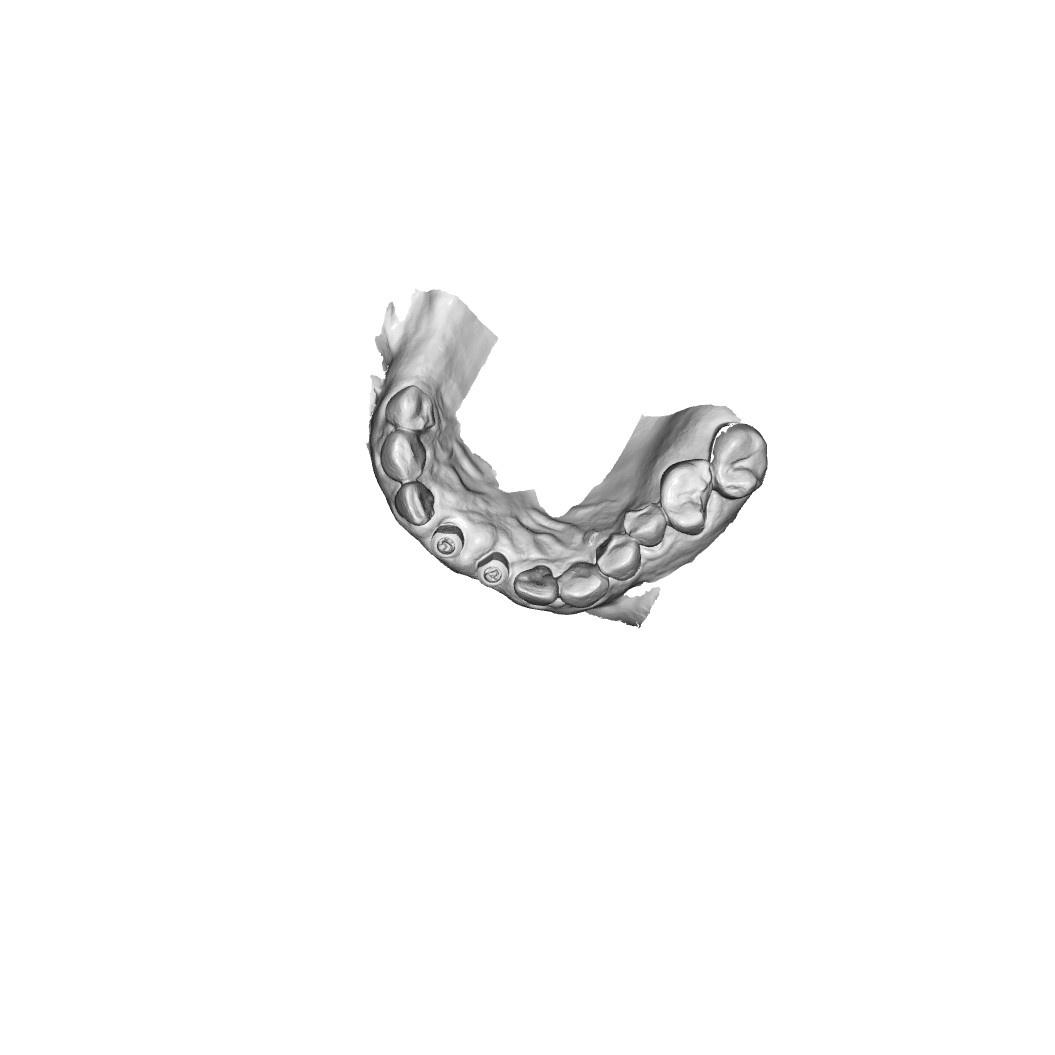canine: (389, 477, 439, 525), (563, 563, 611, 604)
implant: (431, 523, 461, 558), (476, 556, 510, 586)
incisor: (514, 563, 559, 605)
molar: (664, 457, 719, 530), (715, 418, 765, 490)
premolar: (386, 384, 434, 432), (379, 430, 424, 478), (600, 533, 643, 579), (628, 507, 666, 542)
